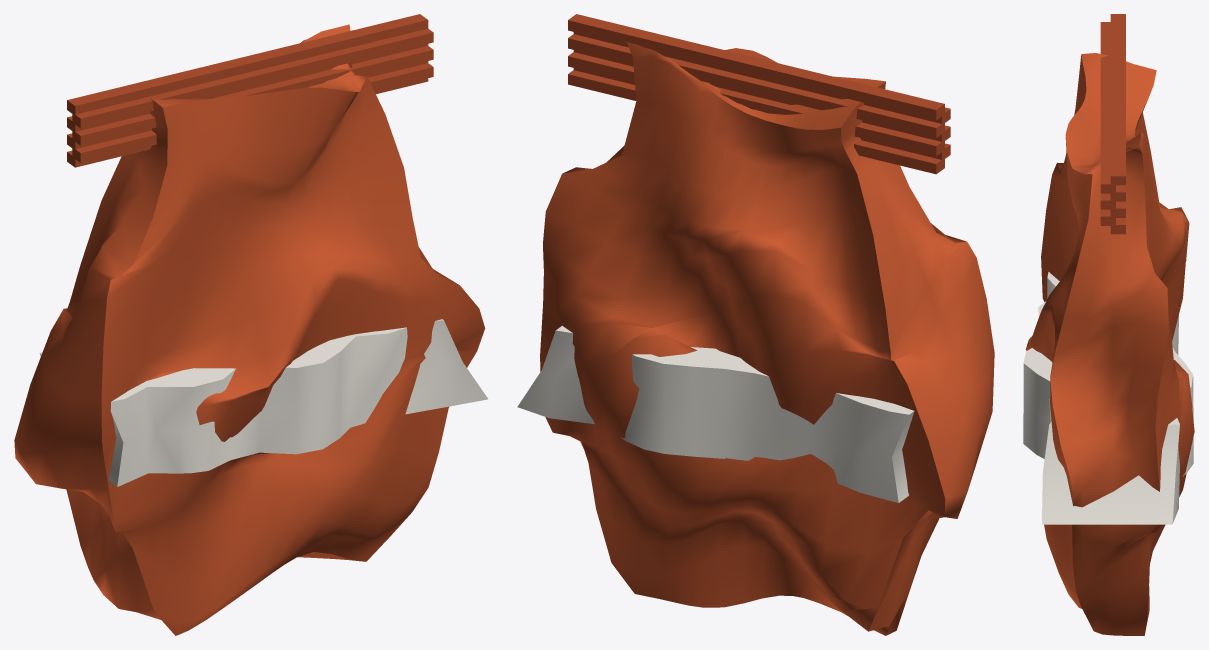
The model's file is crumpledBag.glb.
3 views of the same model, side by side, from view 1: azimuth 30°, elevation 25°; view 2: azimuth 150°, elevation 25°; view 3: azimuth 270°, elevation 25° (orthographic). The views are drawn at different scales.
Visible parts, largest first — view 1: bagBody, band, crimp; view 2: bagBody, band, crimp; view 3: bagBody, band, crimp.
Part boxes in pixels (left/top/right/bottom): bagBody: left=14, top=24, right=485, bottom=635; band: left=39, top=319, right=487, bottom=486; crimp: left=67, top=14, right=433, bottom=167; bagBody: left=540, top=42, right=994, bottom=635; band: left=517, top=325, right=914, bottom=502; crimp: left=568, top=14, right=950, bottom=174; bagBody: left=1025, top=53, right=1194, bottom=635; band: left=1023, top=272, right=1193, bottom=524; crimp: left=1100, top=14, right=1125, bottom=234.
Size of the model in its own units: 0.1811 by 0.218 by 0.067.
